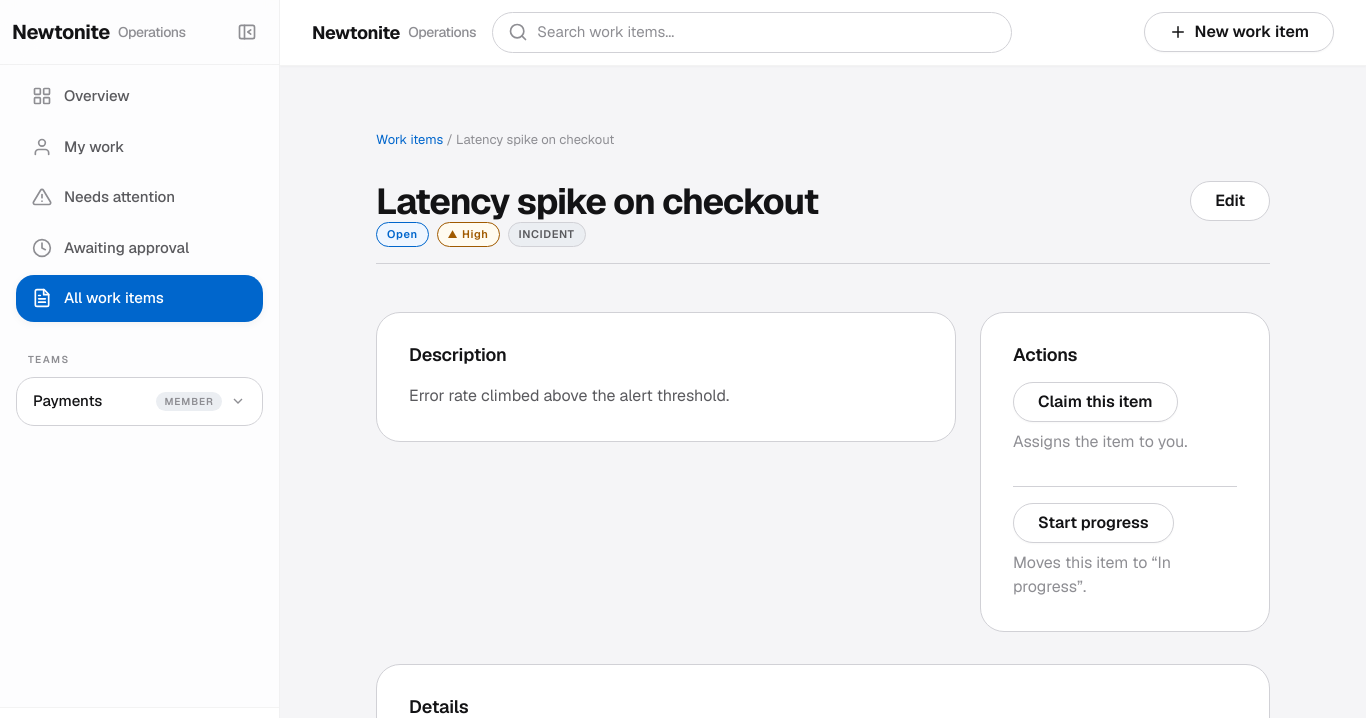
Test case: ItemDetailPage › explains an invalid transition
Expected: the heading "Latency spike on checkout" is shown, x1=376 y1=181 x2=818 y2=222
Click the button "Start progress".
click(1093, 523)  # box x1=1013 y1=503 x2=1174 y2=543
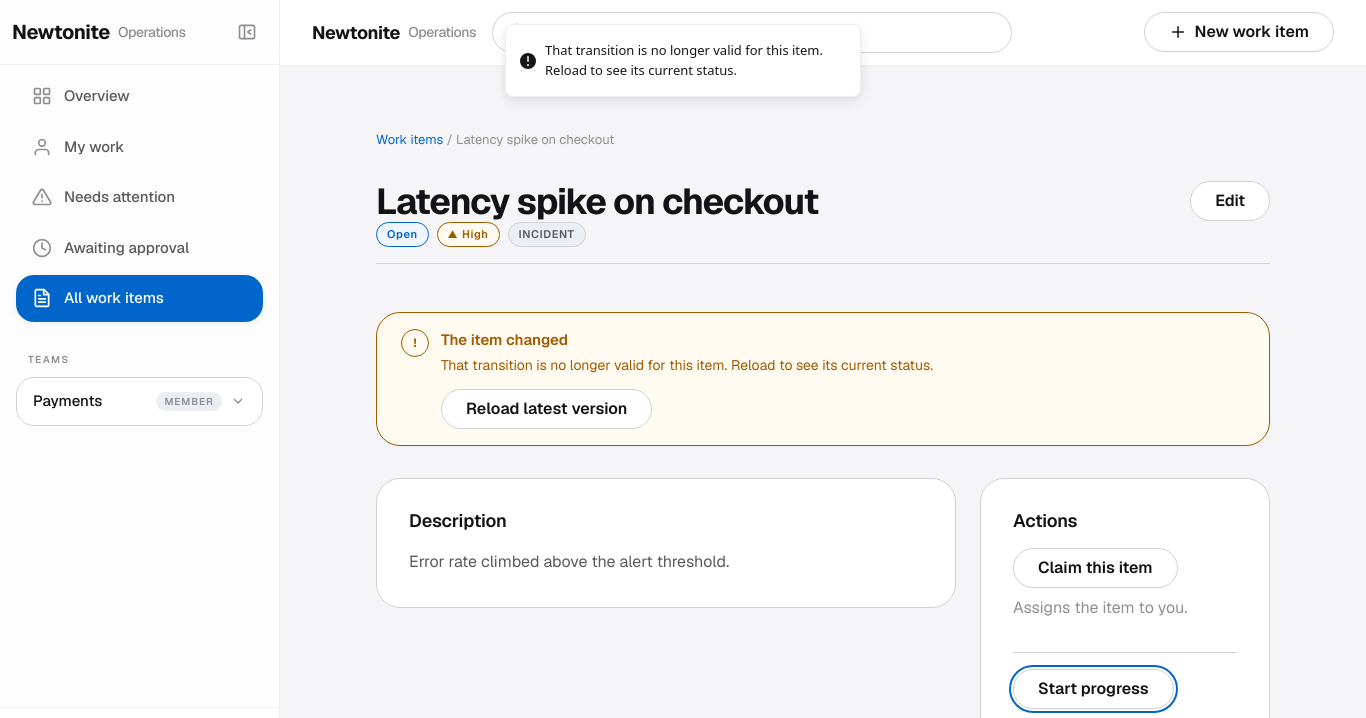
Expected: the 1st list item is shown, x1=505 y1=24 x2=861 y2=97
